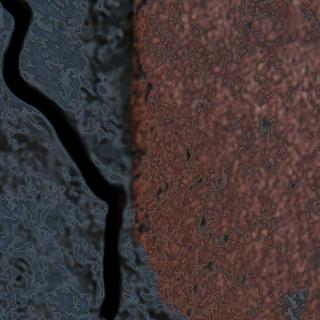brick: (130, 0, 319, 319)
crack: (0, 0, 126, 319)
